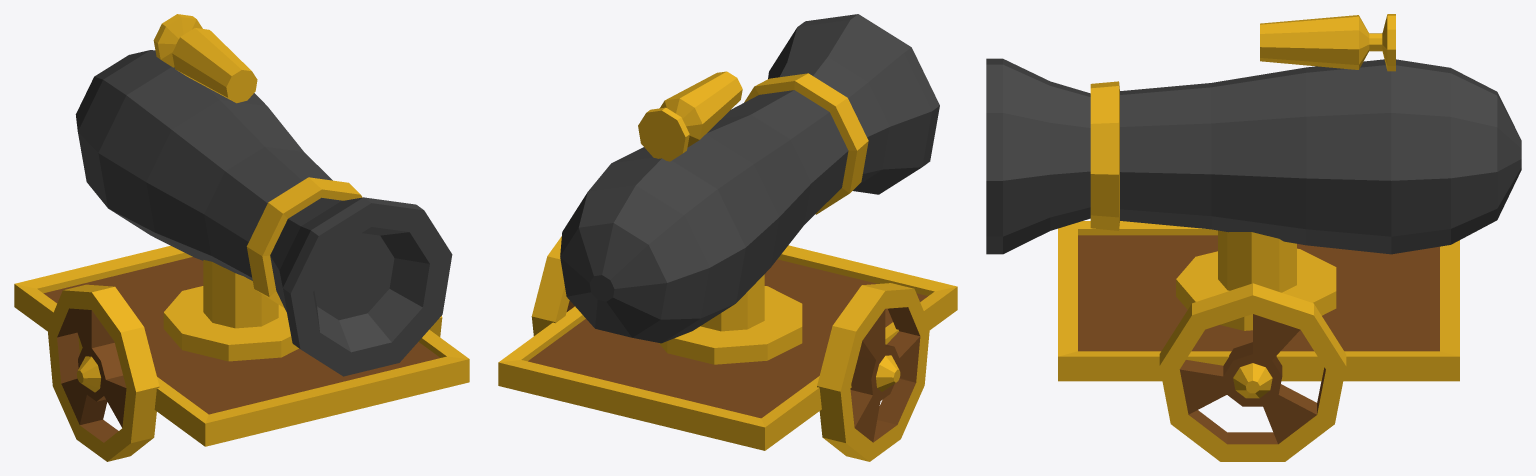
File: Canhao_Nv4.glb
The picture shows the model from 3 angles, left to right: view 1: azimuth 30°, elevation 25°; view 2: azimuth 150°, elevation 25°; view 3: azimuth 270°, elevation 25°; orthographic projection. The views are drawn at different scales.
Visible parts, largest first — view 1: Turret.002, Cube.002; view 2: Turret.002, Cube.002; view 3: Turret.002, Cube.002.
Part boxes in pixels (left/top/right/bottom): Turret.002: left=75, top=14, right=452, bottom=376; Cube.002: left=14, top=245, right=469, bottom=461; Turret.002: left=560, top=14, right=939, bottom=364; Cube.002: left=498, top=236, right=957, bottom=461; Turret.002: left=986, top=14, right=1521, bottom=330; Cube.002: left=1058, top=221, right=1459, bottom=461.
Size of the model in its own units: 1.17 by 1.19 by 1.56.
